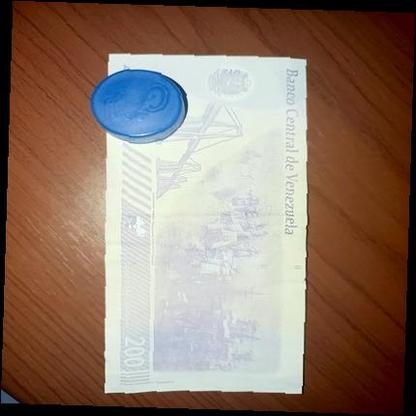two_hundred-back-vef: (102, 53, 308, 394)
